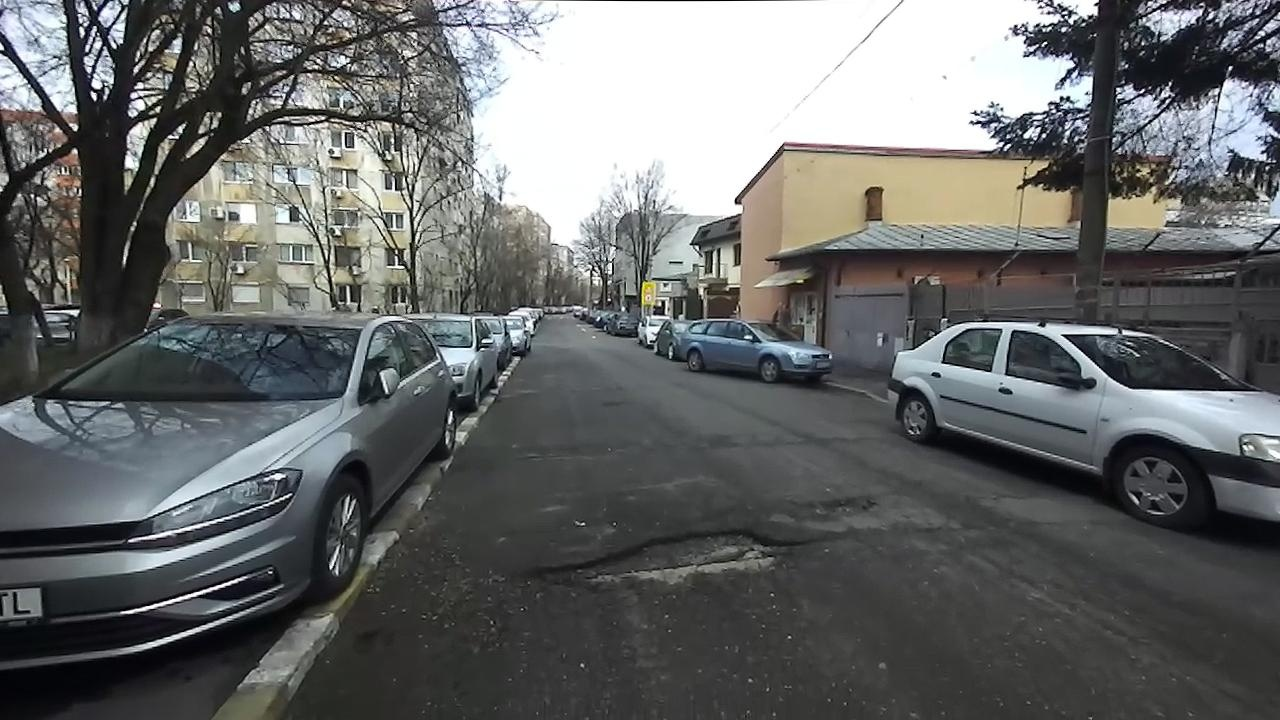pothole: (522, 524, 830, 600), (798, 488, 882, 516)
